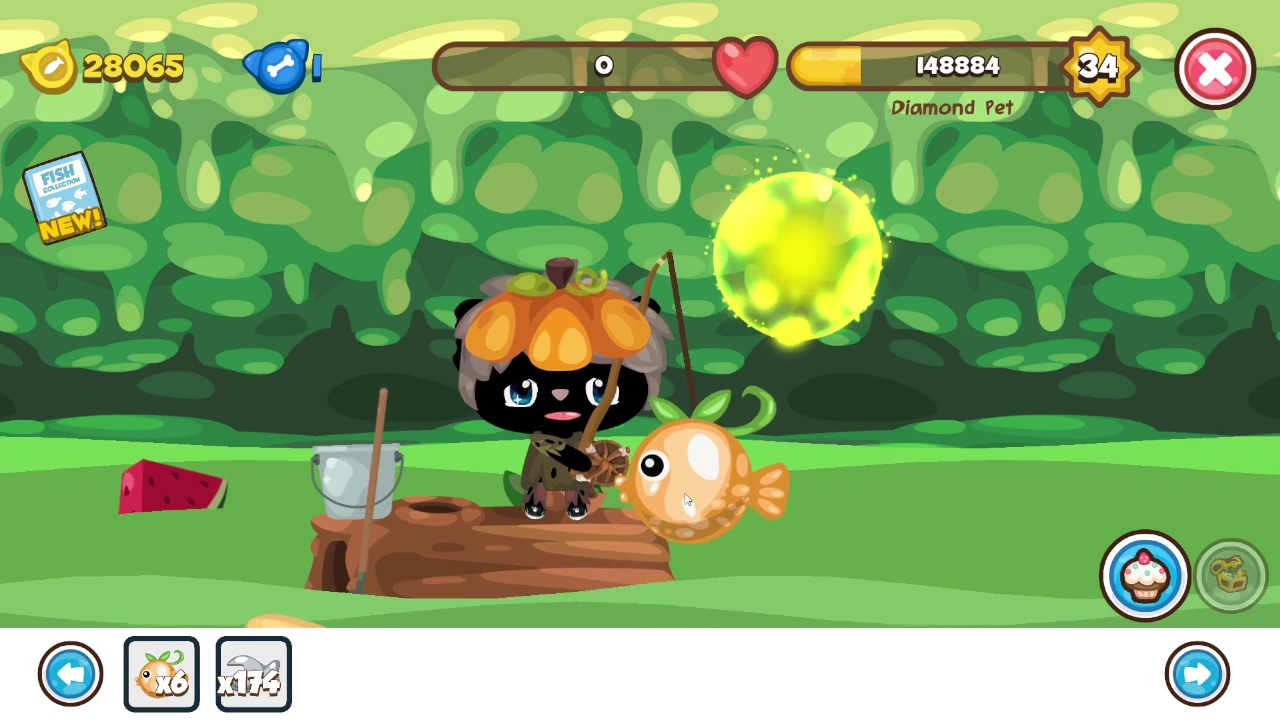point: (712, 169, 887, 344)
